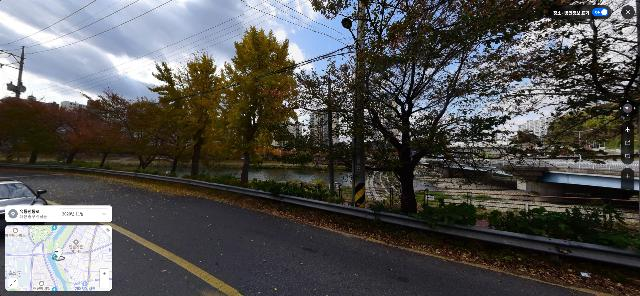ginkgo: (215, 23, 300, 183), (147, 50, 226, 177)
other: (284, 0, 563, 214), (102, 93, 170, 171), (71, 87, 135, 168), (1, 96, 69, 165), (55, 105, 108, 167)
